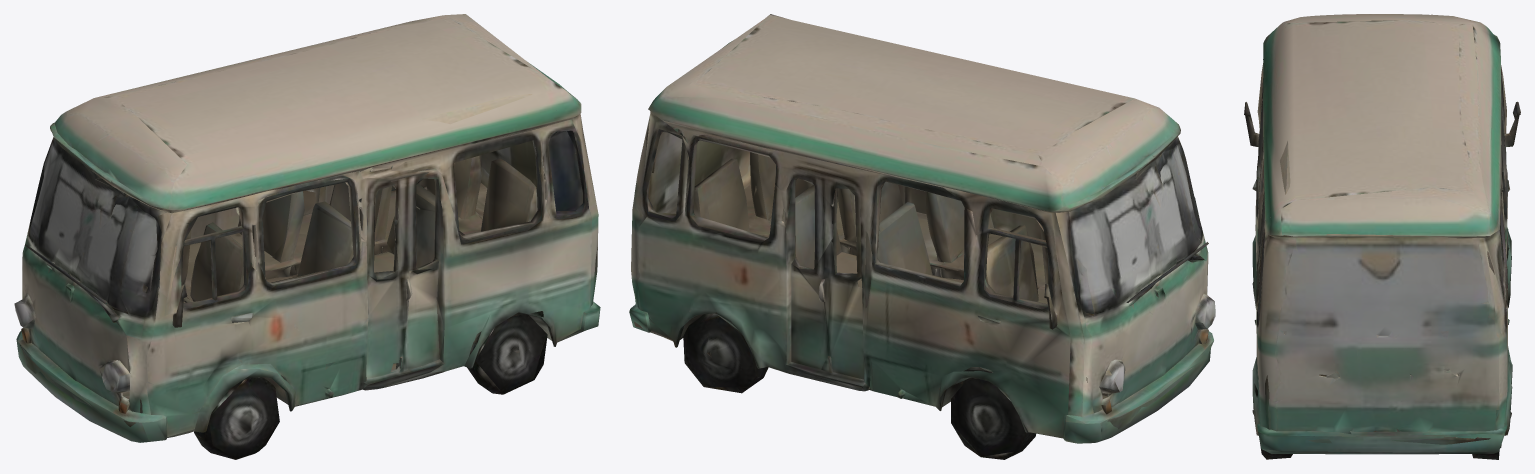
File: hometown_bus.glb
The picture shows the model from 3 angles, left to right: view 1: azimuth 30°, elevation 25°; view 2: azimuth 150°, elevation 25°; view 3: azimuth 270°, elevation 25°; orthographic projection. The views are drawn at different scales.
Visible parts, largest first — view 1: world; view 2: world; view 3: world.
Part boxes in pixels (x1,y1,x2,y2): world: (14,14,600,459); world: (629,14,1215,459); world: (1244,14,1520,459).
Bounding box in the file's own units: 0.3176 × 0.1904 × 0.1633.
Materials: 1 (1 with a texture image).
